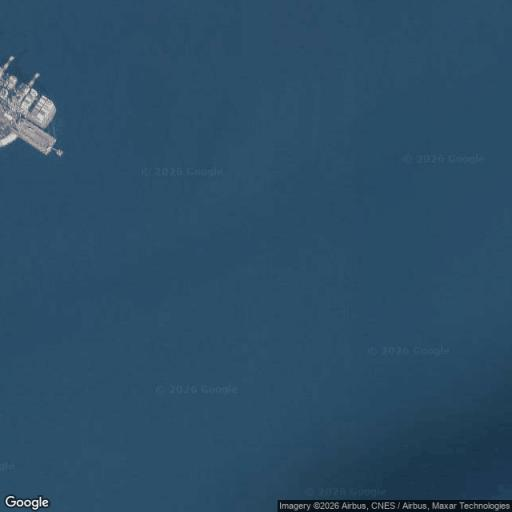ship: (0, 67, 59, 129)
